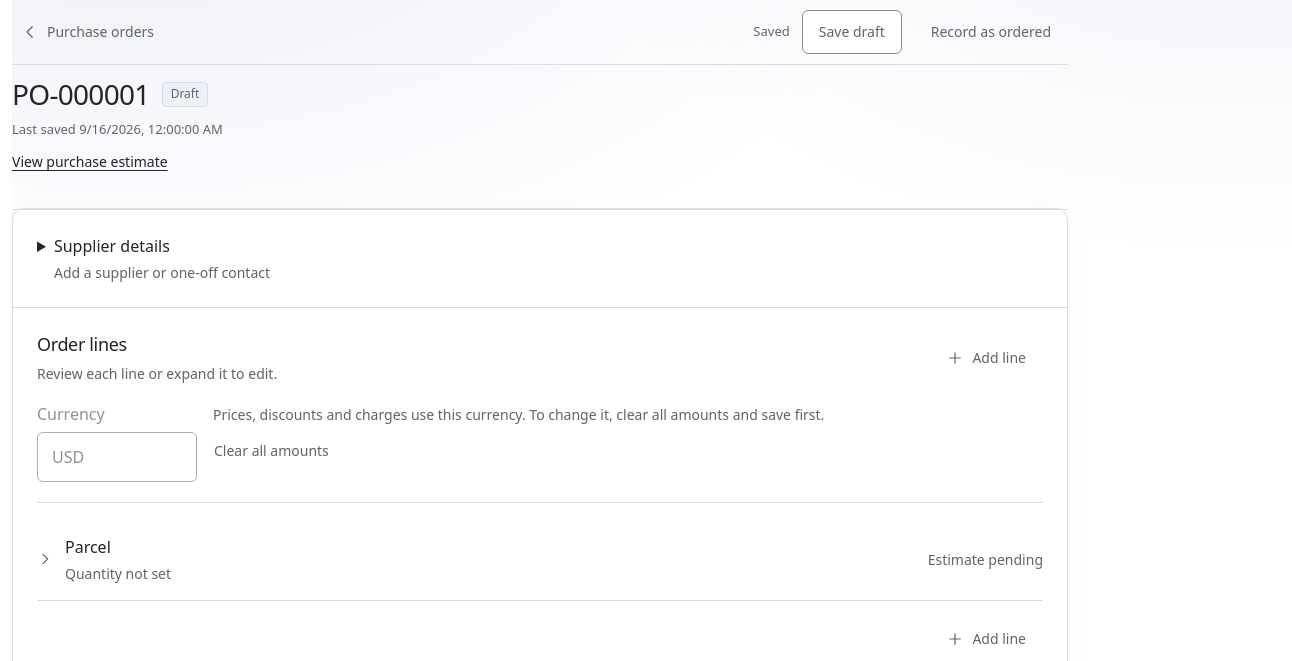
Test: preserves a legacy reference until the owner explicitly adopts lineTotal pricing
Note: THEN the reference is visible without invented quantity or unit price.
Click the heading named "Edit line 1:".
click(88, 547)  # box x1=37 y1=536 x2=1043 y2=583
(page scrolled)
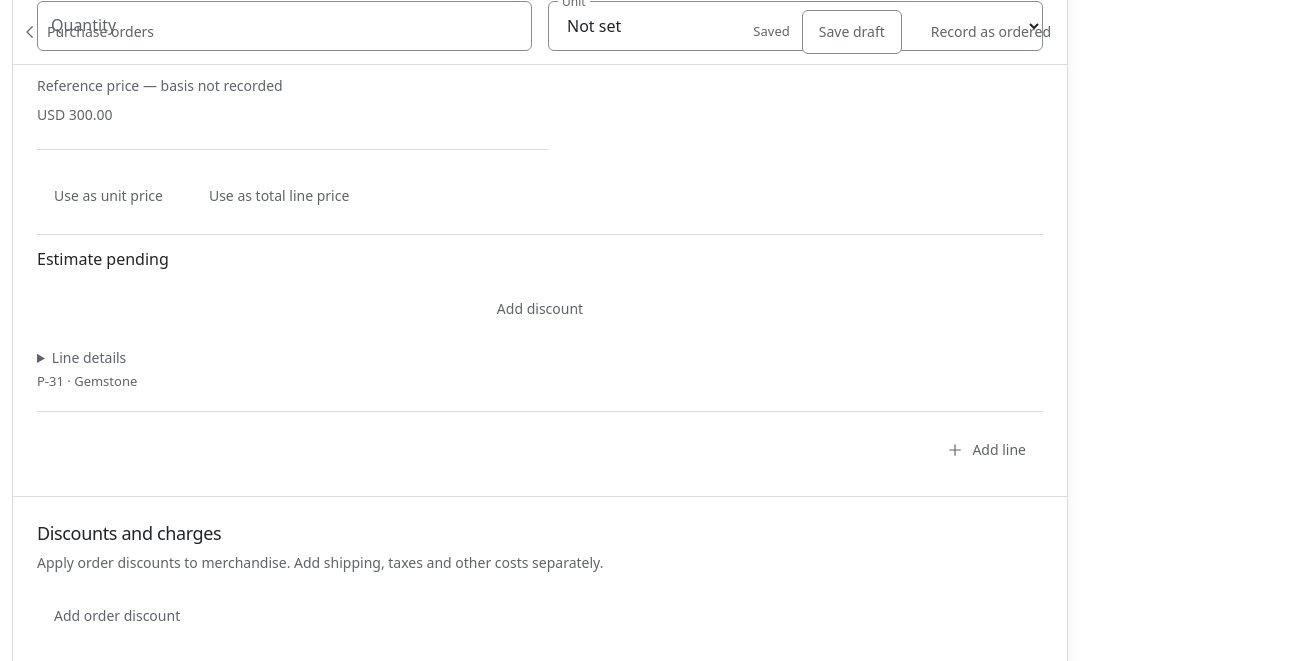
Result: the text "Reference price — basis not recorded" is shown at x1=37 y1=76 x2=283 y2=95
Click the heading "Line details P-31 · Gemstone".
click(87, 369)  # box x1=37 y1=348 x2=137 y2=390
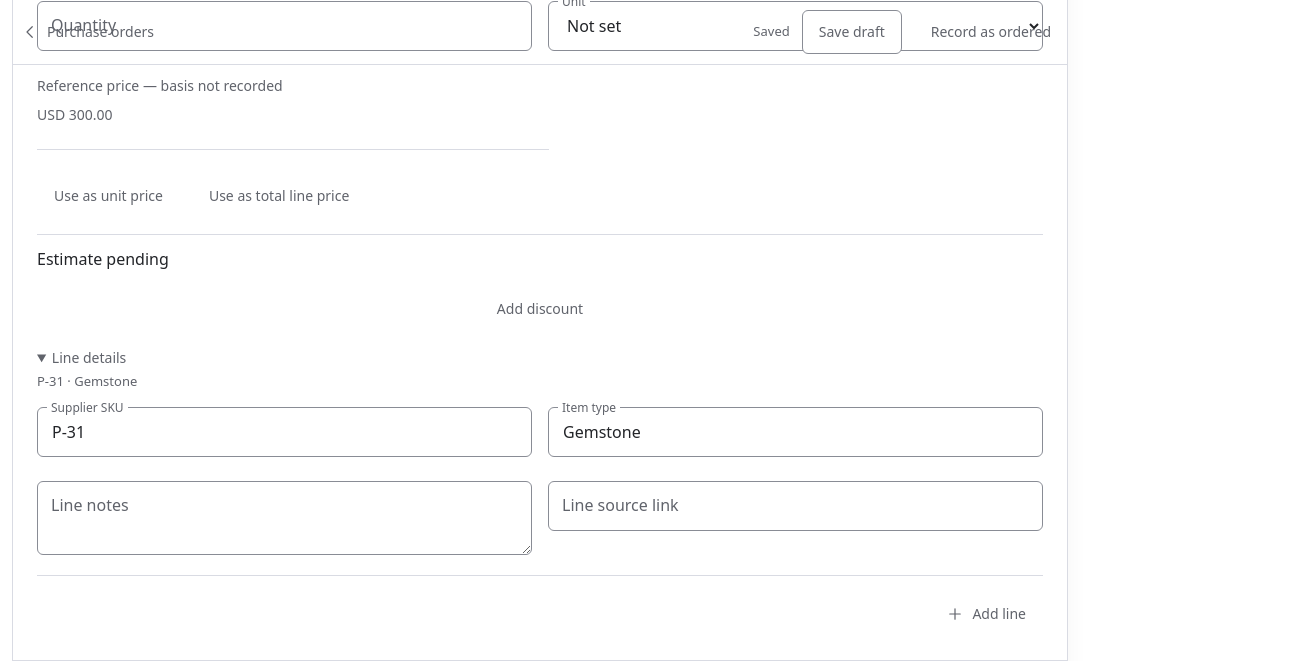
Result: the field named "Quantity 1" is empty at x1=37 y1=1 x2=532 y2=51
Result: the field named "Supplier SKU 1" is shown at x1=37 y1=407 x2=532 y2=457
Note: WHEN the owner chooses the meaning THEN conversion remains local and incomplete.
Click the button "Use as total line price".
click(279, 196)  # box x1=192 y1=174 x2=366 y2=218
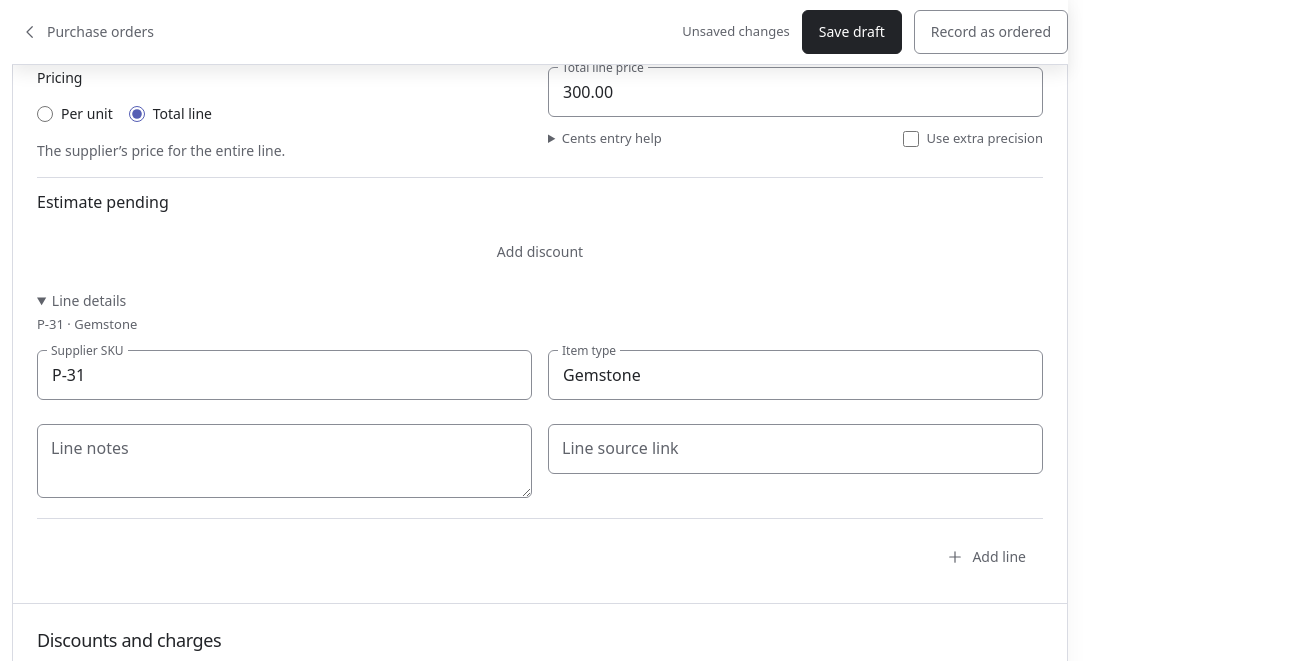
Result: the dropdown named "Unit 1" shows "Not set" at x1=548 y1=1 x2=1043 y2=51
Result: the field named "Total line price 1" holds "300.00" at x1=548 y1=67 x2=1043 y2=117
